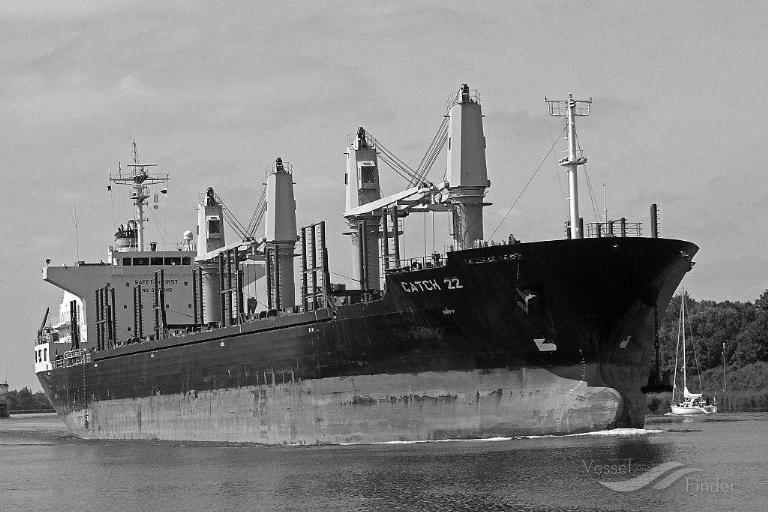OCR: (394, 275, 474, 295)
